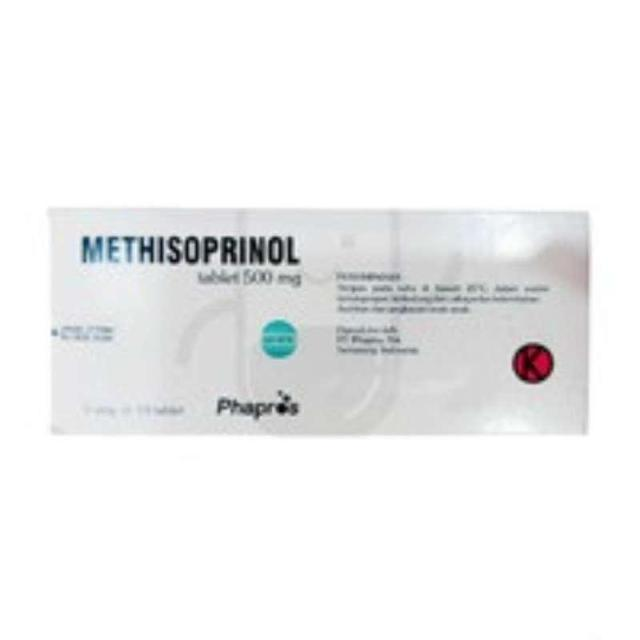drug-name: (73, 228, 304, 270)
